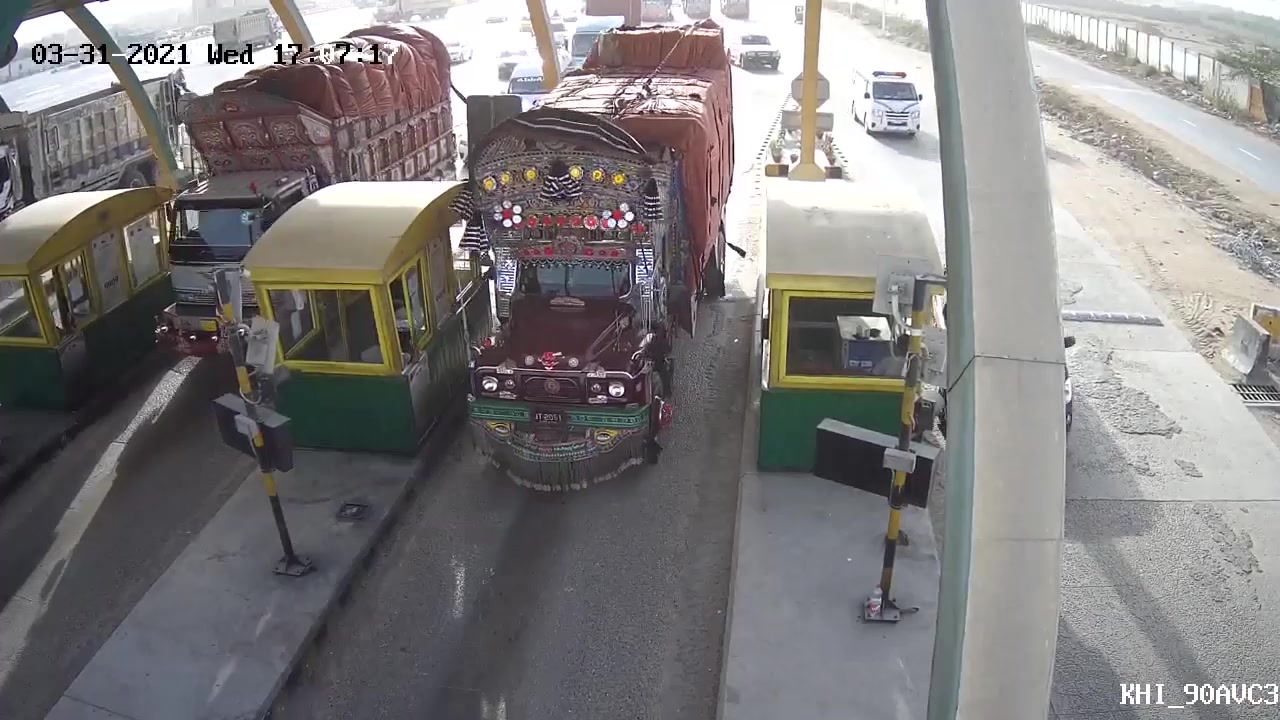F5: (436, 22, 745, 458)
